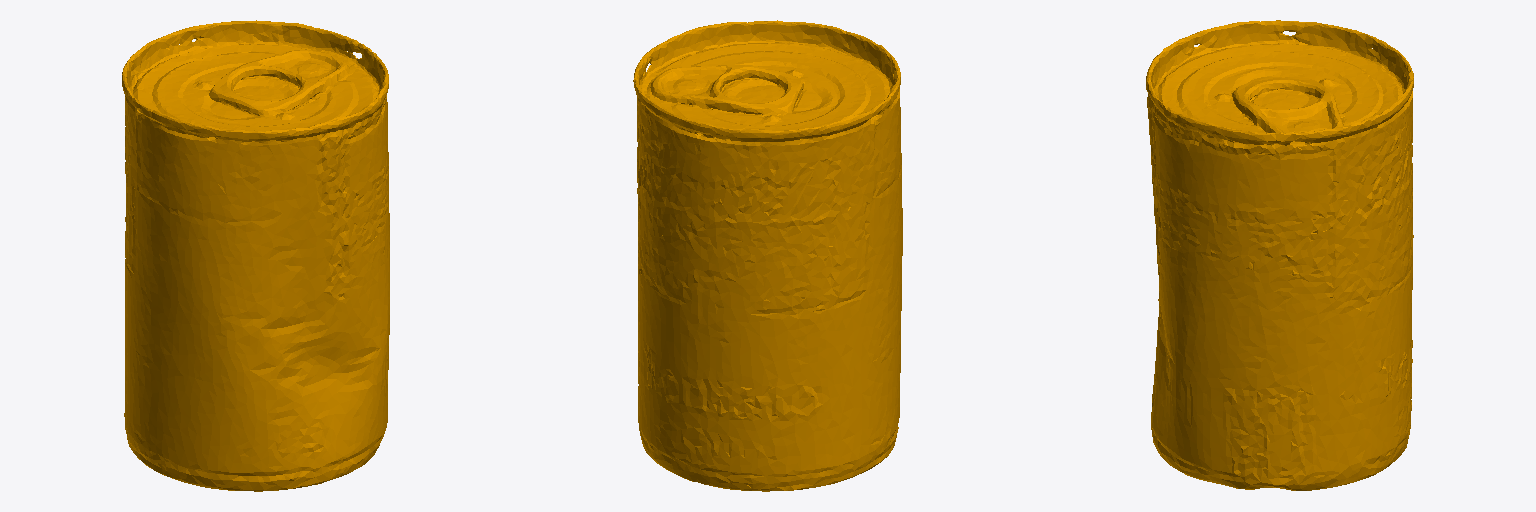
The robot description file, URDF, robot "root":
<robot name="root">
  <link name="link_original">
    <visual>
      <origin xyz="0 0 0" rpy="0 0 0"/>
      <geometry>
        <mesh filename="textured.obj" scale="1.0000E+00 1.0000E+00 1.0000E+00"/>
      </geometry>
    </visual>
    <inertial>
      <origin xyz="0 0 0" rpy="0 0 0"/>
      <mass value="3.1936E-01"/>
      <inertia ixx="3.20E-04" ixy="-1.34E-07" ixz="-7.41E-07" iyy="3.23E-04" iyz="3.24E-07" izz="1.76E-04"/>
    </inertial>
    <collision>
      <origin xyz="0 0 0" rpy="0 0 0"/>
      <geometry>
        <mesh filename="coacd_allinone.obj" scale="1.0000E+00 1.0000E+00 1.0000E+00"/>
      </geometry>
    </collision>
  </link>
</robot>

--- Render facts (derived) ---
The picture shows the robot from 3 angles, left to right: view 1: azimuth 30°, elevation 25°; view 2: azimuth 150°, elevation 25°; view 3: azimuth 270°, elevation 25°; orthographic projection.
Model root with 1 links and 0 joints (none), rooted at link_original, posed every joint at zero.
Visible links, largest first — view 1: link_original; view 2: link_original; view 3: link_original.
Link boxes in pixels (left/top/right/bottom): link_original: left=122, top=20, right=389, bottom=491; link_original: left=633, top=20, right=902, bottom=491; link_original: left=1146, top=20, right=1413, bottom=490.
Bounding box of the posed robot: 0.0679 × 0.0677 × 0.1019 m (x, y, z).
Meshes: 1 distinct files referenced, 1 mesh visuals loaded (1 OBJ).
